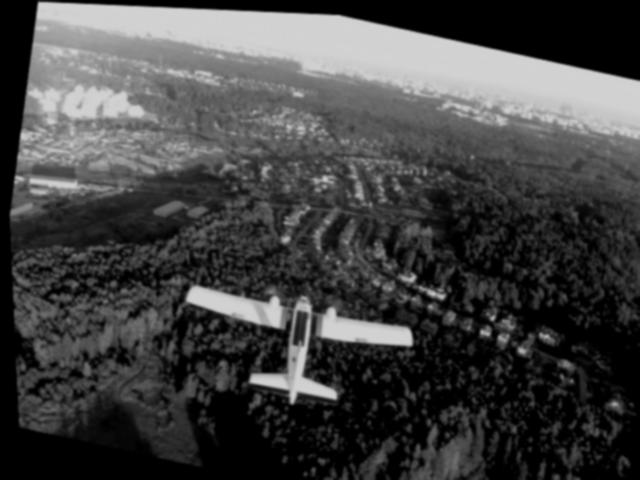hedef: (166, 260, 425, 429)
